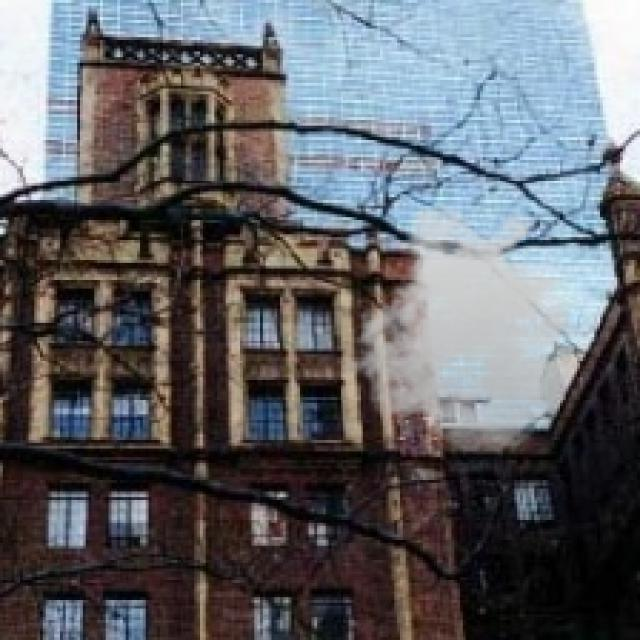Smoke: (346, 200, 603, 454)
